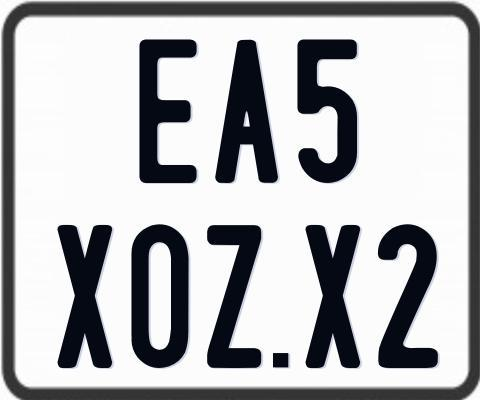0: (129, 223, 187, 372)
2: (376, 221, 439, 368)
5: (296, 39, 356, 183)
A: (212, 38, 276, 181)
E: (136, 37, 195, 187)
X: (56, 224, 111, 370), (306, 225, 360, 370)
Z: (205, 224, 263, 373)
